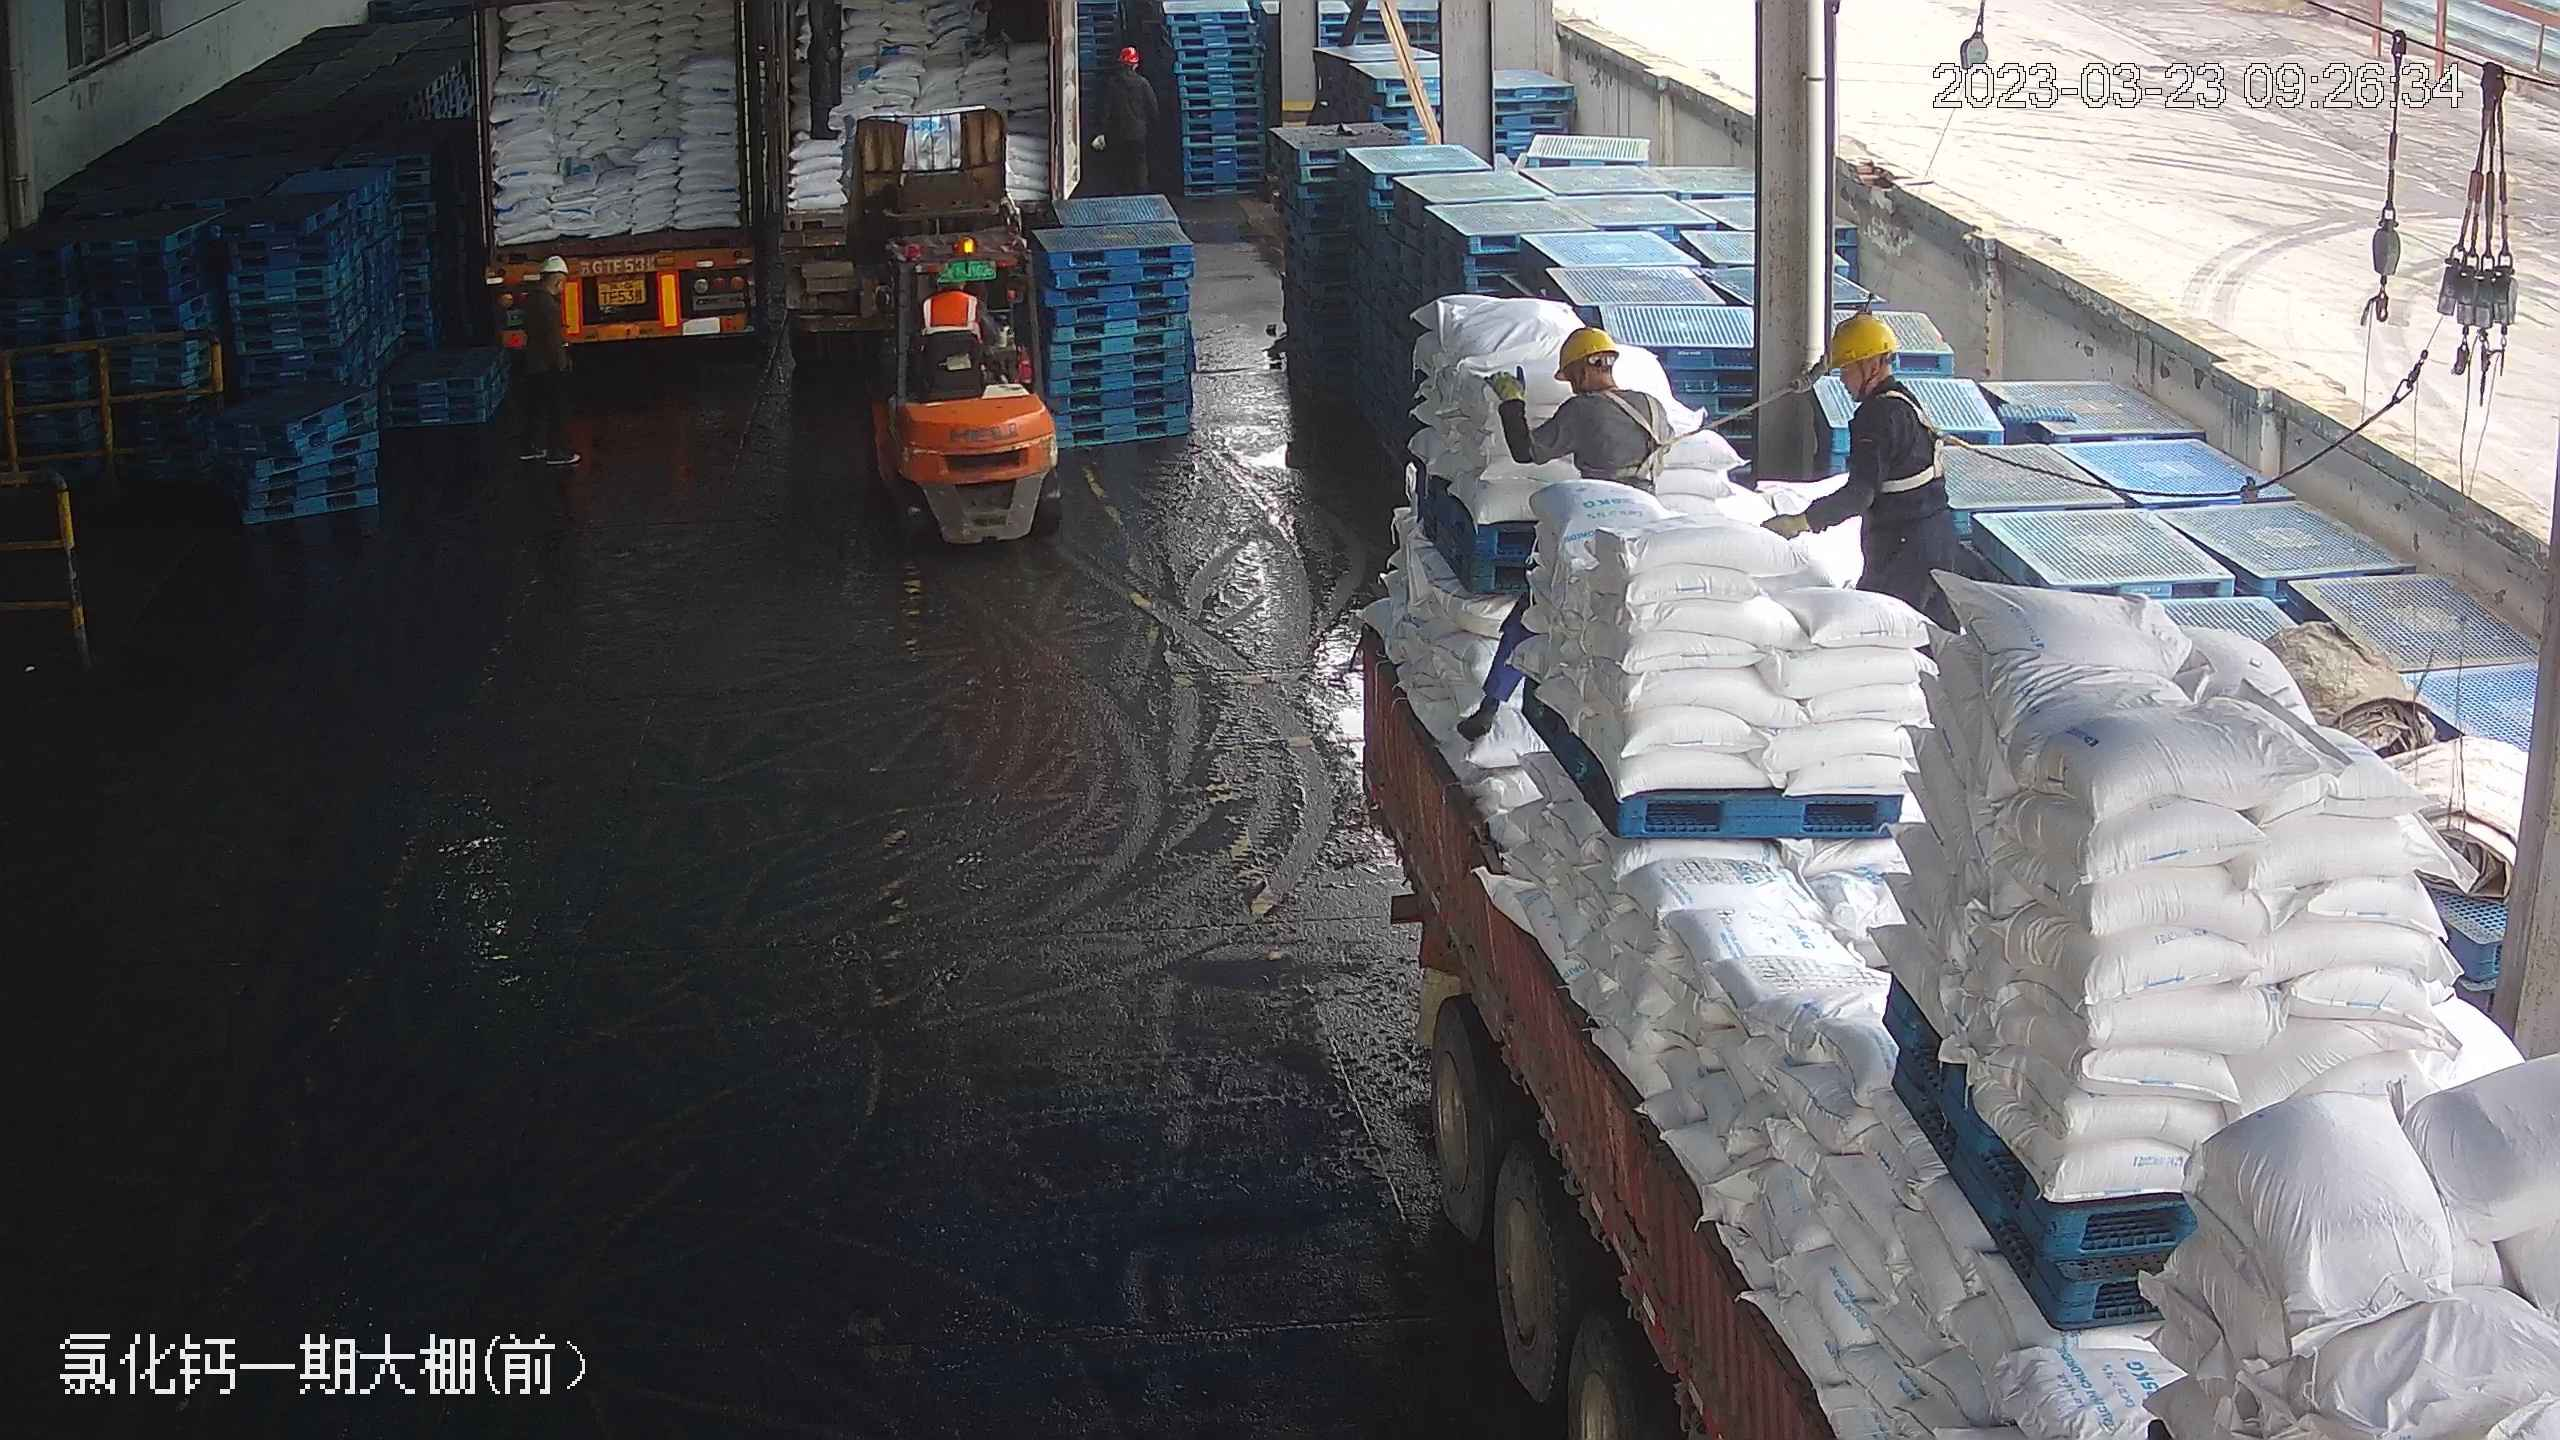belt: (1865, 381, 1957, 491), (1588, 381, 1679, 476)
head: (1815, 308, 1940, 443), (1543, 319, 1664, 439), (1106, 47, 1149, 97)
helmet: (1819, 308, 1900, 364), (1551, 320, 1620, 370), (1118, 47, 1141, 66)
people: (1762, 308, 1965, 629), (1103, 41, 1156, 199)
truck: (1347, 120, 2541, 1440), (452, 1, 811, 350)
